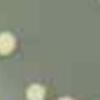white: (0, 27, 19, 63), (20, 79, 49, 100), (55, 93, 82, 100)
